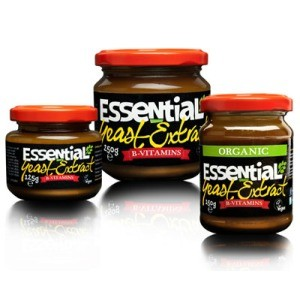yeast spread_brain food: (102, 34, 199, 182), (205, 88, 296, 233), (3, 102, 97, 211)
